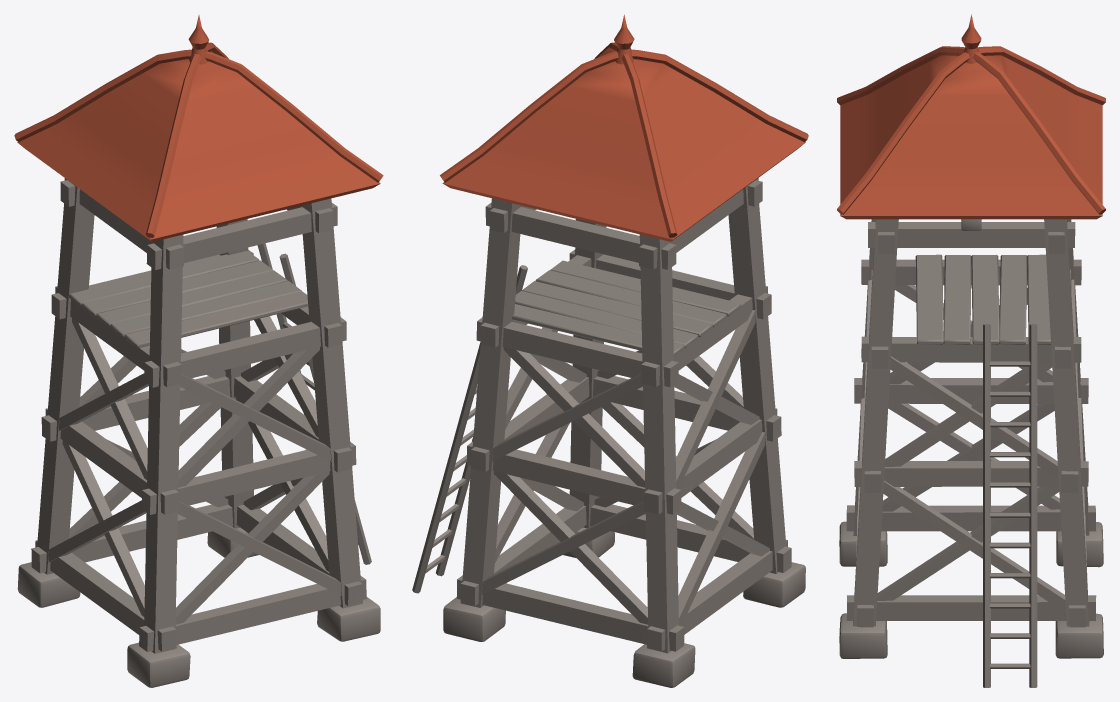
File: nomad_building_b29_decor.fbx
3 renders of one model, left to right at view 1: azimuth 30°, elevation 25°; view 2: azimuth 150°, elevation 25°; view 3: azimuth 270°, elevation 25°, orthographic.
Visible parts, largest first — view 1: C__BellFrame__01; view 2: C__BellFrame__01; view 3: C__BellFrame__01.
Part boxes in pixels (<box>): C__BellFrame__01: <box>14,15,383,687</box>; C__BellFrame__01: <box>412,14,808,687</box>; C__BellFrame__01: <box>837,14,1105,687</box>.
Size of the model in its own units: 1315 by 2530 by 1044.
